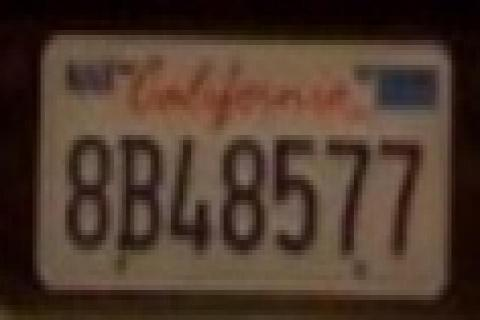LicensePlate: (36, 30, 461, 304)
